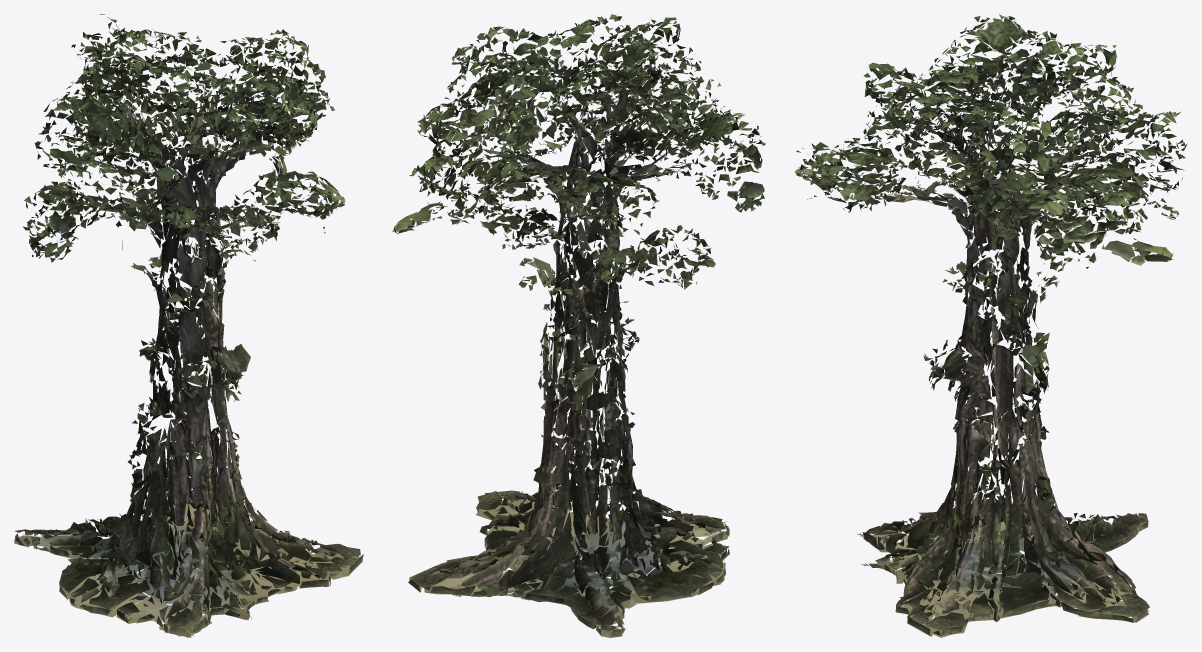
The model's file is tree3_lods.glb.
3 renders of one model, left to right at view 1: azimuth 30°, elevation 25°; view 2: azimuth 150°, elevation 25°; view 3: azimuth 270°, elevation 25°, orthographic.
Visible parts, largest first — view 1: tree3_0_lod0; view 2: tree3_0_lod0; view 3: tree3_0_lod0.
Boxes of the visible parts, left/top/right/bottom form: tree3_0_lod0: left=14, top=14, right=363, bottom=637; tree3_0_lod0: left=392, top=14, right=765, bottom=637; tree3_0_lod0: left=794, top=14, right=1187, bottom=637.
Size of what is drawn, in the model's own units: 0.5925 by 1.01 by 0.6821.
1 material, 1 textured.
